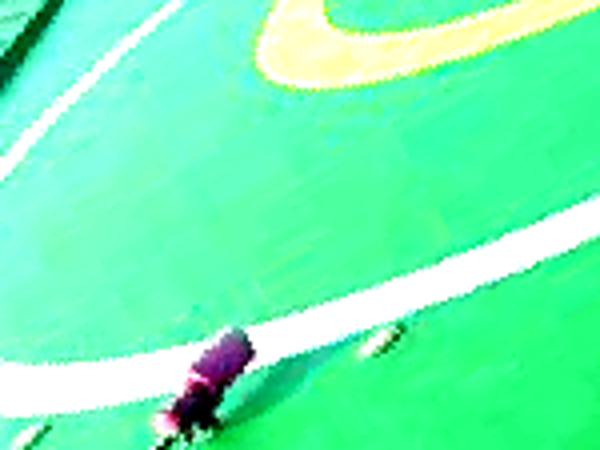Apron: (243, 1, 599, 99)
